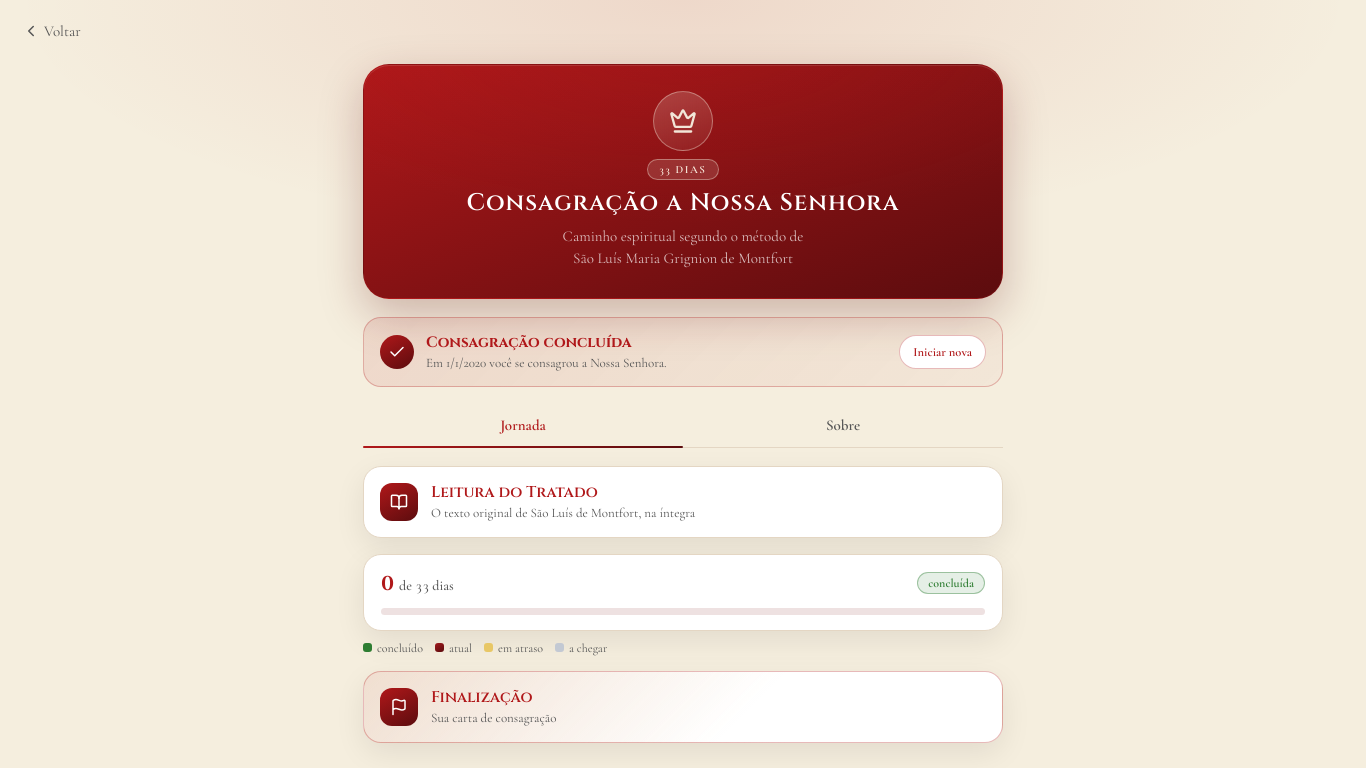
Test: ConsecrationHome › shows the finished banner and reveals the restart form
Expected: the text "Consagração concluída" is shown, [426,332,632,352]
Click the button "Iniciar nova" at point(943, 352), box [899,335,986,369]
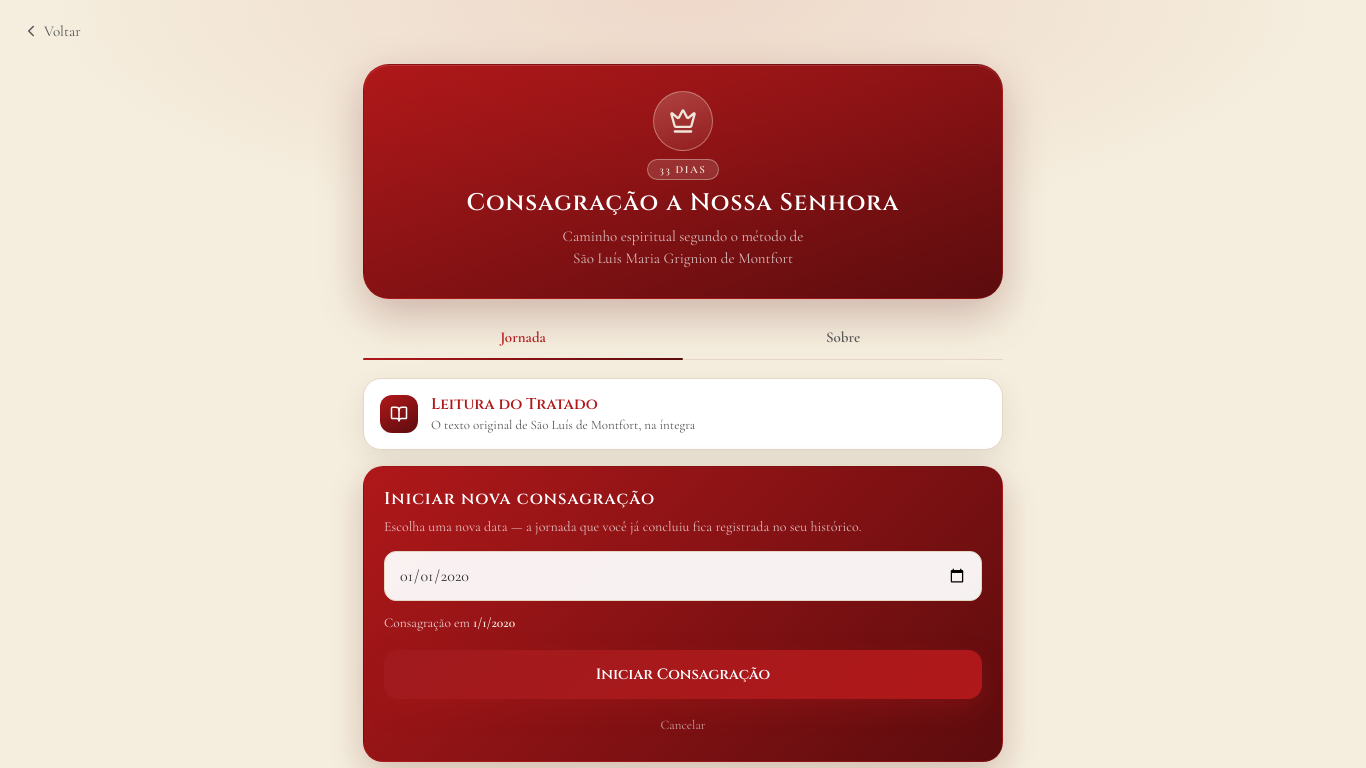
Expected: the heading "Iniciar nova consagração" is shown, [384,487,655,510]
